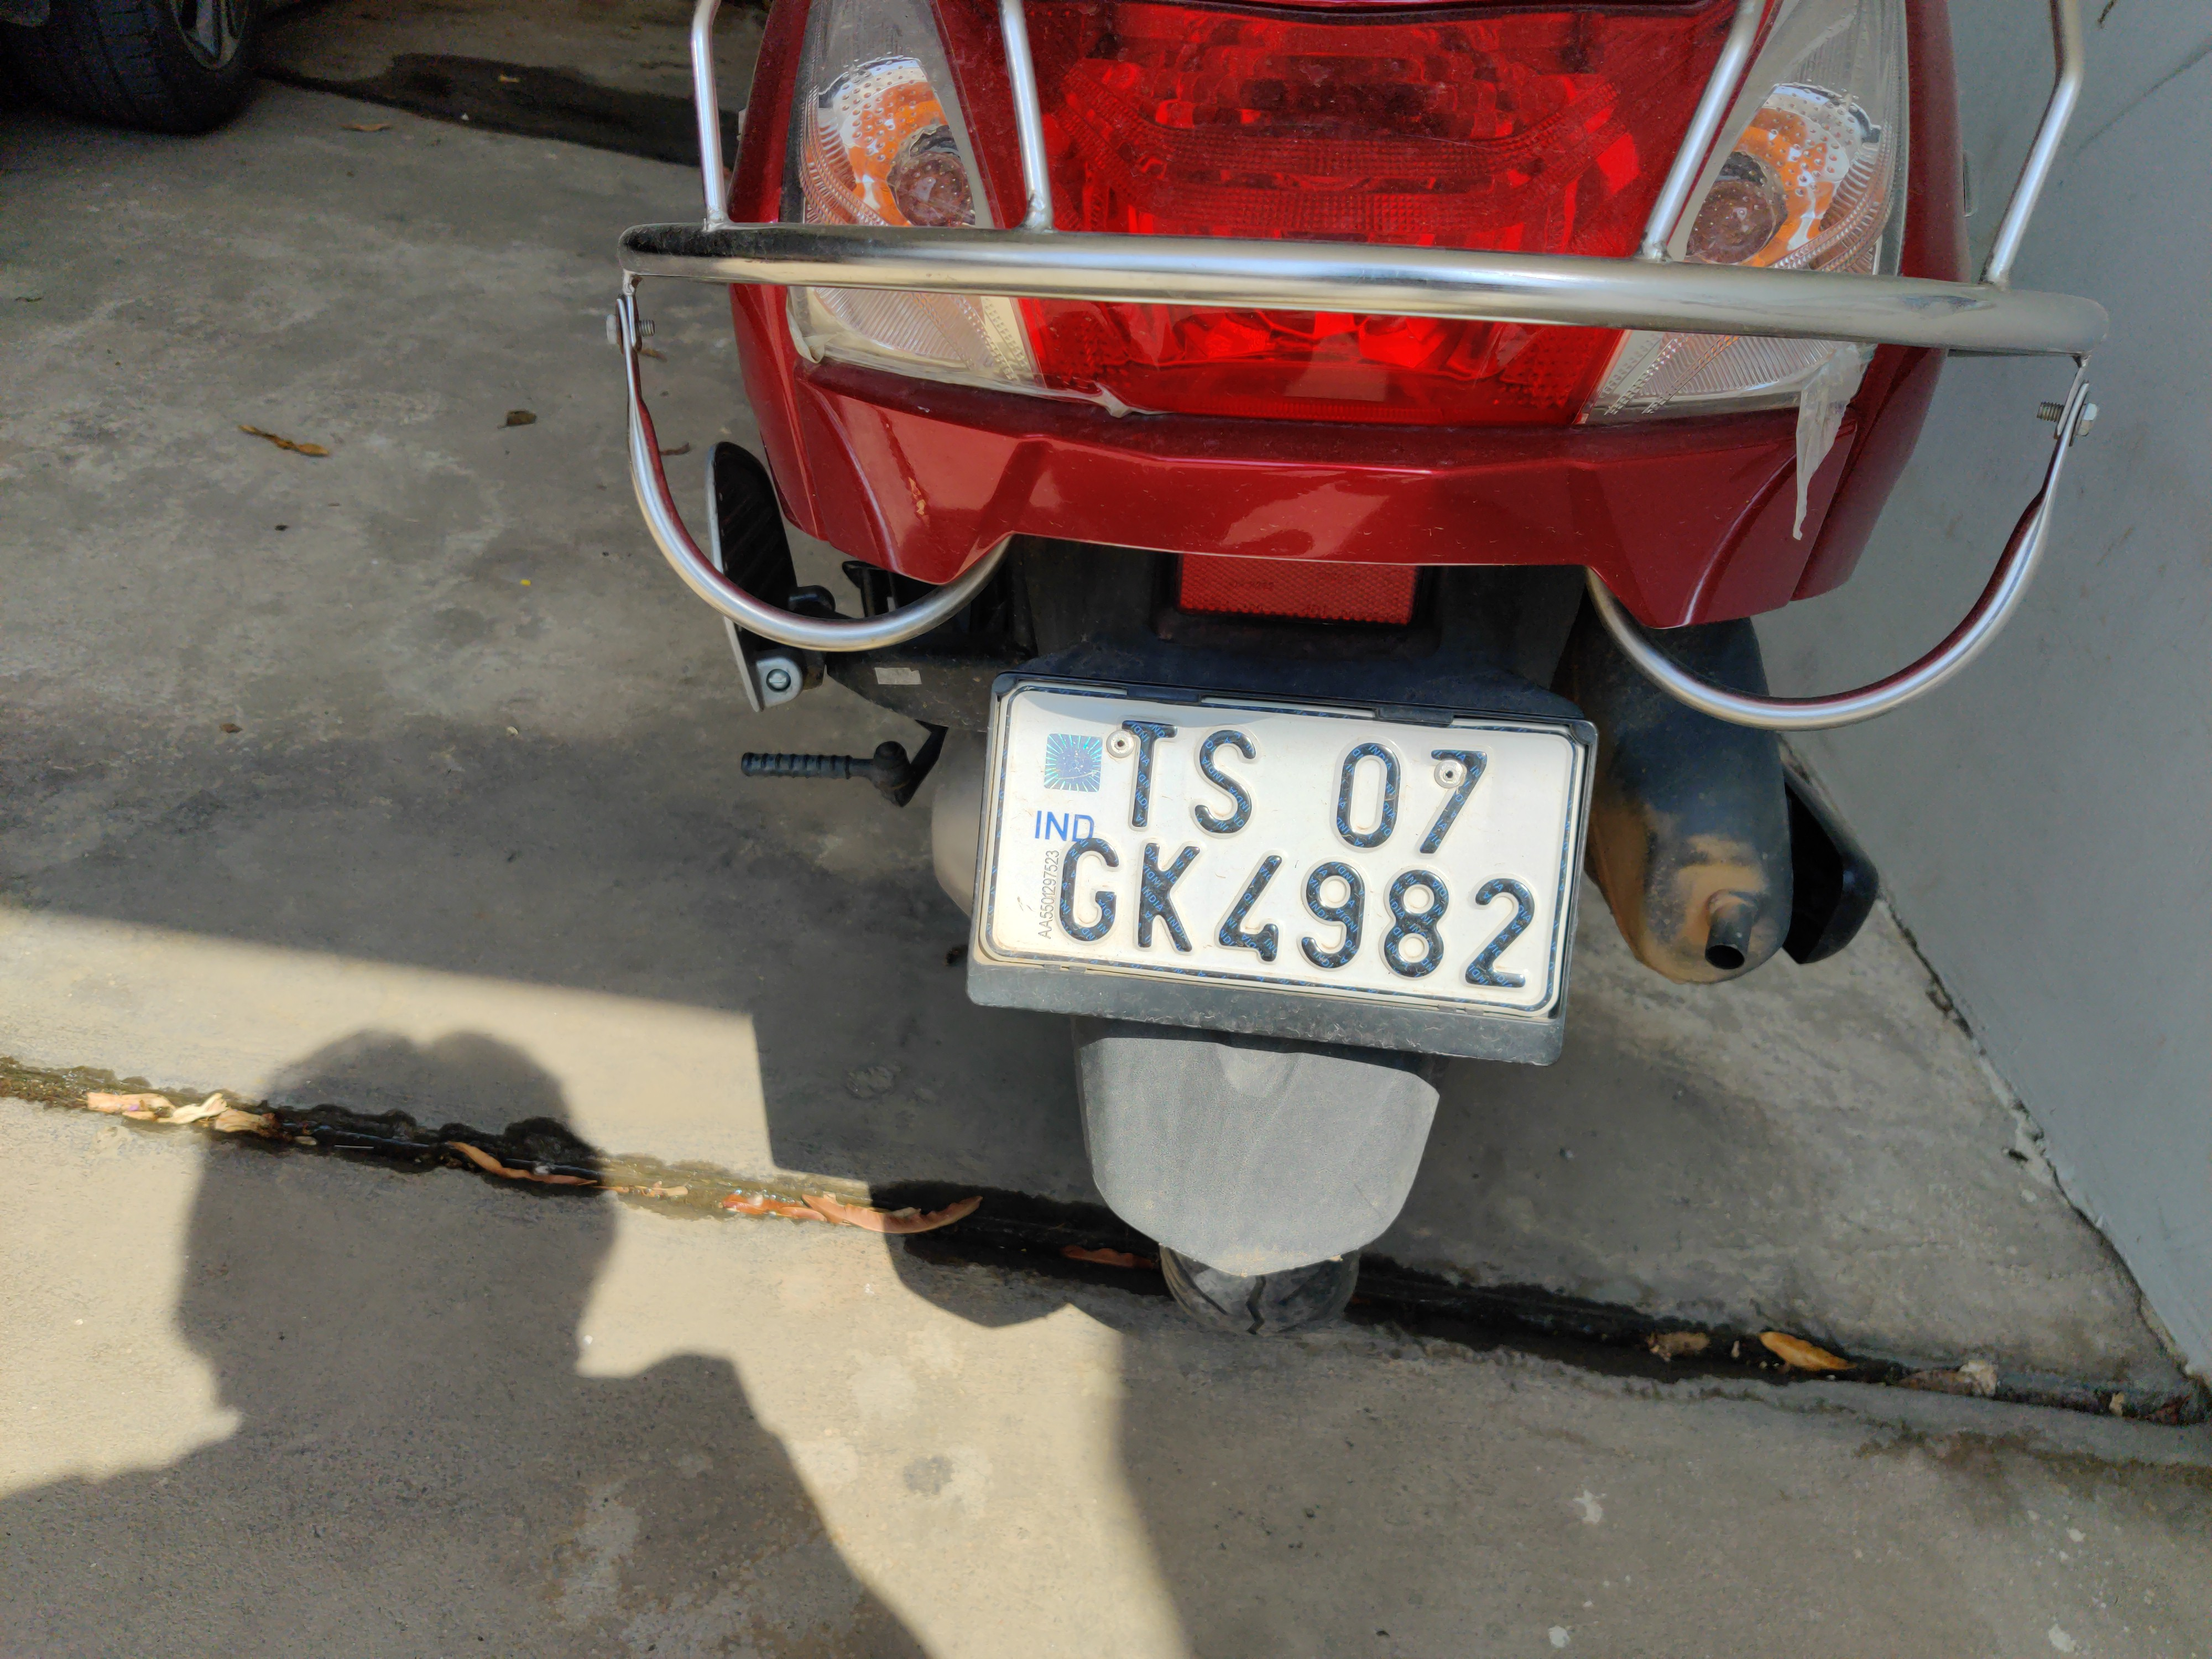plate: (976, 666, 1606, 1081)
